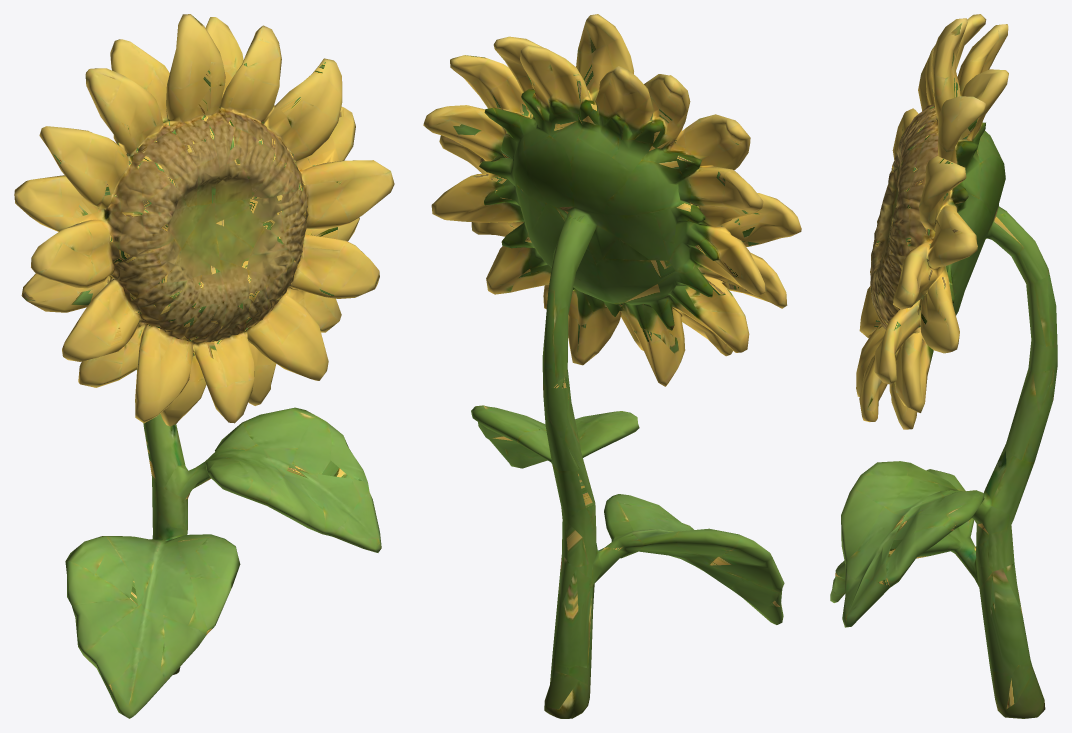
File: sunflower.glb
3 views of the same model, side by side, from view 1: azimuth 30°, elevation 25°; view 2: azimuth 150°, elevation 25°; view 3: azimuth 270°, elevation 25° (orthographic). The views are drawn at different scales.
Size of the model in its own units: 1.06 by 1.89 by 0.563.
Materials: 1 (1 with a texture image).
